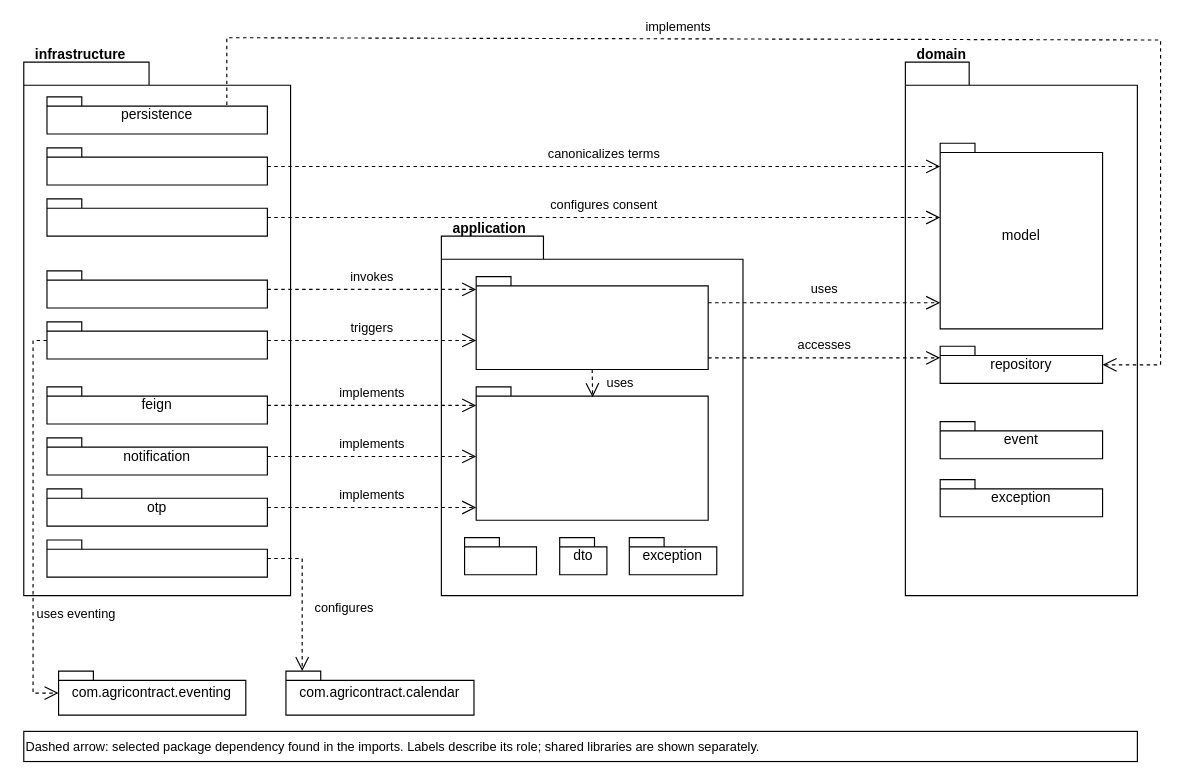
Image size: 1195x783. Some labels were removed from this diagram. The shapes that lost their labels are listed below. From the top down, each one's centre as x and y in pixels, then its label:
At (156,166): "terms".
At (156,217): "consent".
At (156,289): "web".
At (156,340): "messaging".
At (591,322): "usecase".
At (591,453): "port".
At (156,558): "config".
At (499,555): "service".
